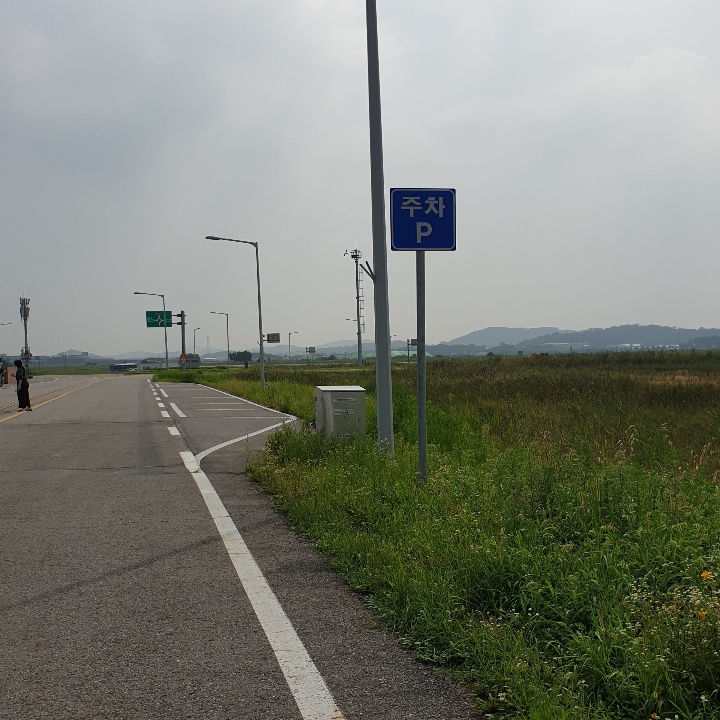parking: (410, 214, 437, 248)
